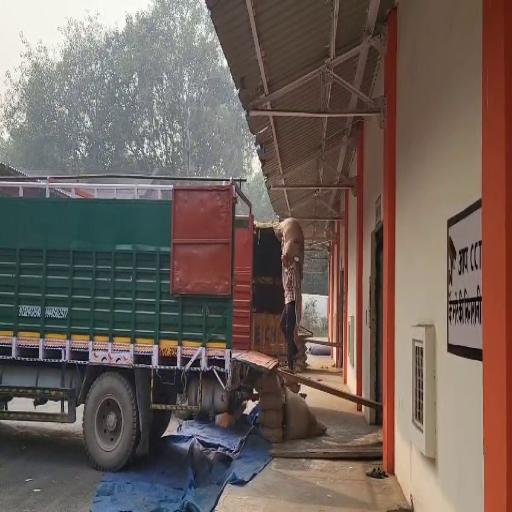bag: (273, 218, 309, 270)
